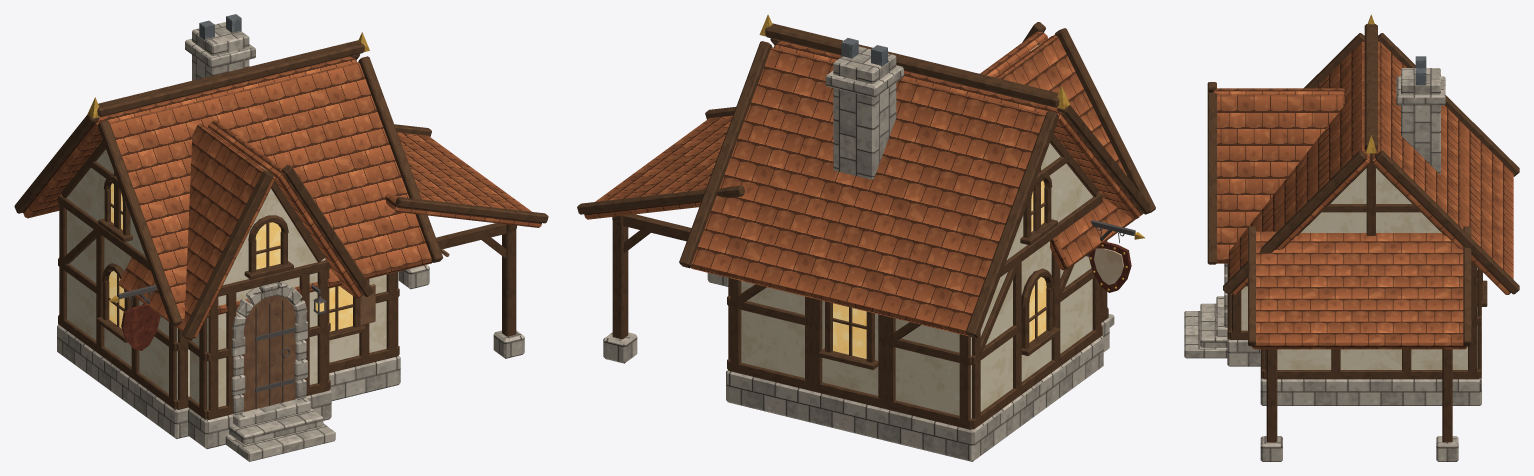
The model's file is leather_workshop_exterior.glb.
The picture shows the model from 3 angles, left to right: view 1: azimuth 30°, elevation 25°; view 2: azimuth 150°, elevation 25°; view 3: azimuth 270°, elevation 25°; orthographic projection. The views are drawn at different scales.
Visible parts, largest first — view 1: leather_workshop_exterior_roof, leather_workshop_exterior_walls, leather_workshop_exterior_door_leaf, leather_workshop_exterior_drying_shed, leather_workshop_exterior_hide_sign; view 2: leather_workshop_exterior_roof, leather_workshop_exterior_walls, leather_workshop_exterior_drying_shed, leather_workshop_exterior_hide_sign; view 3: leather_workshop_exterior_roof, leather_workshop_exterior_walls, leather_workshop_exterior_drying_shed.
Boxes of the visible parts, x1,y1,x2,y2 form: leather_workshop_exterior_roof: (14,32,548,339); leather_workshop_exterior_walls: (57,14,400,461); leather_workshop_exterior_door_leaf: (242,295,295,411); leather_workshop_exterior_drying_shed: (398,223,524,358); leather_workshop_exterior_hide_sign: (121,292,160,350); leather_workshop_exterior_roof: (577,14,1155,338); leather_workshop_exterior_walls: (726,38,1114,461); leather_workshop_exterior_drying_shed: (603,214,728,363); leather_workshop_exterior_hide_sign: (1088,229,1131,292); leather_workshop_exterior_roof: (1207,14,1519,349); leather_workshop_exterior_walls: (1184,56,1487,405); leather_workshop_exterior_drying_shed: (1260,349,1458,461).
Size of what is drawn, in the model's own units: 6.75 by 4.99 by 5.06.
Materials: 13 (13 with a texture image).
